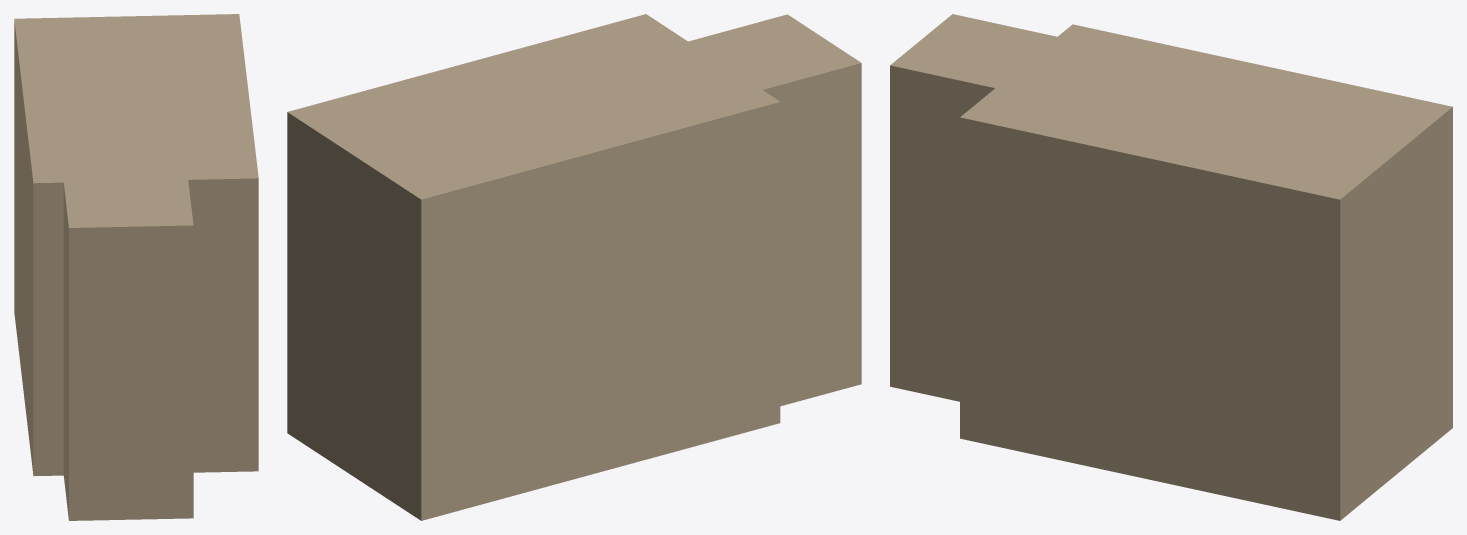
The model's file is bld_99020496.dae.
3 renders of one model, left to right at view 1: azimuth 30°, elevation 25°; view 2: azimuth 150°, elevation 25°; view 3: azimuth 270°, elevation 25°, orthographic. The views are drawn at different scales.
Visible parts, largest first — view 1: bld_99020496; view 2: bld_99020496; view 3: bld_99020496.
Part boxes in pixels (x1,y1,x2,y2): bld_99020496: (14, 14, 258, 520); bld_99020496: (287, 14, 861, 520); bld_99020496: (890, 14, 1452, 520).
Bounding box in the file's own units: 9.92 × 12.7 × 8.
